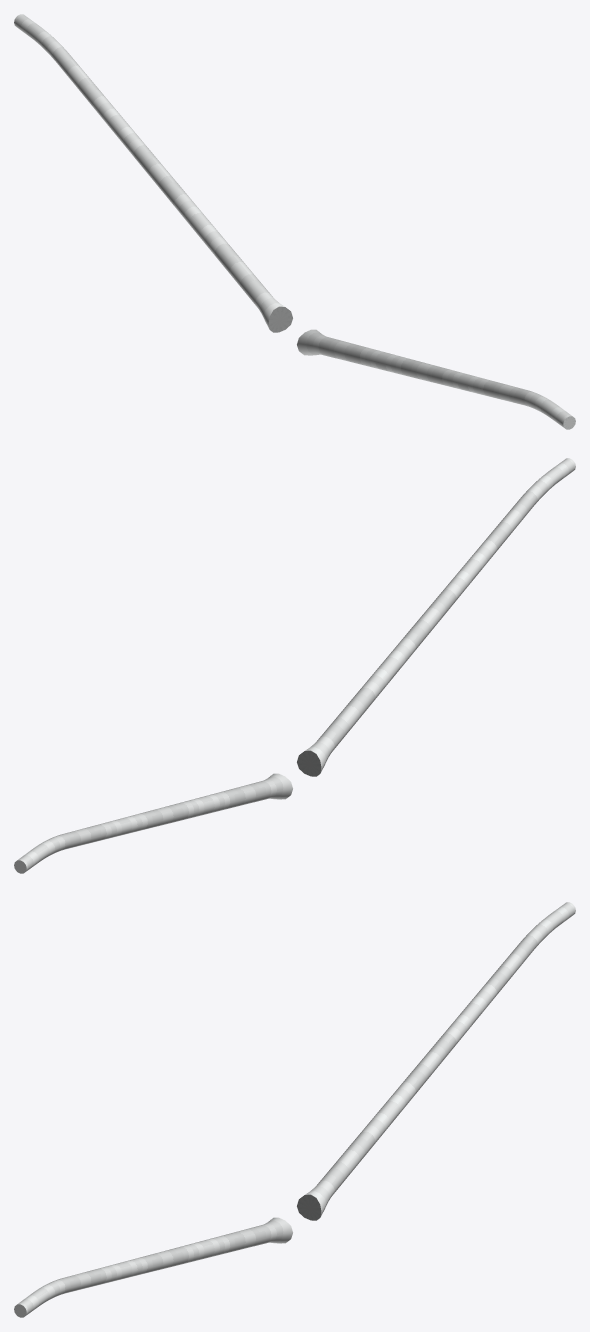
File: luminairearm_caltrans15ftstraightdouble_inv.obj
3 renders of one model, top to bottom at view 1: azimuth 30°, elevation 25°; view 2: azimuth 150°, elevation 25°; view 3: azimuth 330°, elevation 25°, orthographic.
Visible parts, largest first — view 1: luminairearm_caltrans15ftstraightdouble_inv; view 2: luminairearm_caltrans15ftstraightdouble_inv; view 3: luminairearm_caltrans15ftstraightdouble_inv.
Boxes of the visible parts, x1,y1,x2,y2 form: luminairearm_caltrans15ftstraightdouble_inv: (14,14,575,429); luminairearm_caltrans15ftstraightdouble_inv: (14,458,575,873); luminairearm_caltrans15ftstraightdouble_inv: (14,902,575,1317).
Bounding box in the file's own units: 0.026 × 0.1295 × 1.
